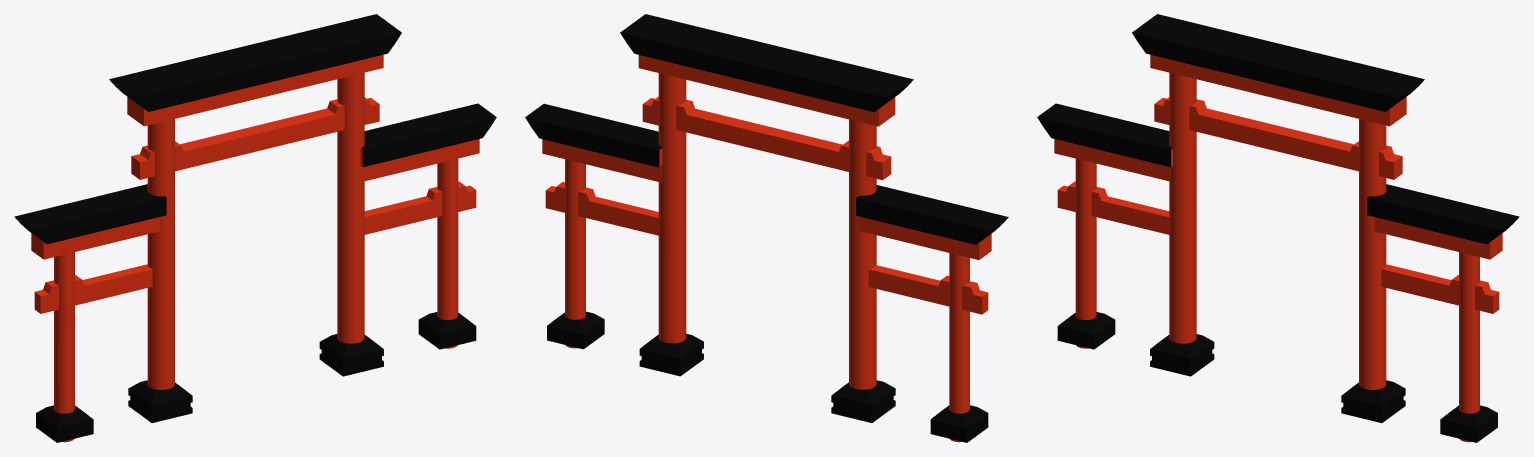
The model's file is Japanese Torii1.fbx.
3 views of the same model, side by side, from view 1: azimuth 30°, elevation 25°; view 2: azimuth 150°, elevation 25°; view 3: azimuth 330°, elevation 25° (orthographic).
Parts seen in each view (by area): view 1: Japanese Torii; view 2: Japanese Torii; view 3: Japanese Torii.
Boxes of the visible parts, box(x1,y1,x2,y2) form: Japanese Torii: box(14, 14, 496, 442); Japanese Torii: box(525, 14, 1008, 442); Japanese Torii: box(1037, 14, 1519, 442).
Size of what is drawn, in the model's own units: 1021 by 703 by 97.18.
